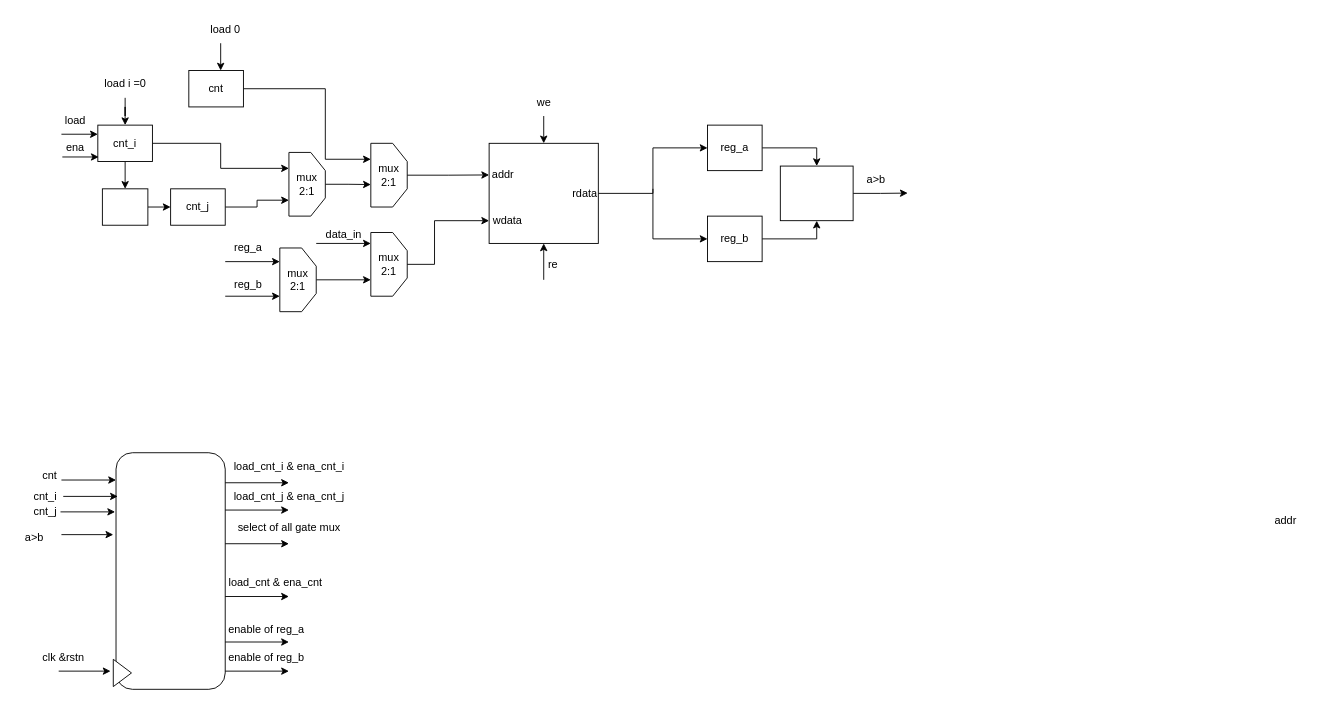
Some shapes in this 1323 by 705 pixel diagram are drawn without their labels. The shapes that lost their labels are listed below. From the top down, each one's box as (x1, y1, x2, y2) in pixels, then its label:
(101, 188, 148, 225): i+1
(488, 142, 598, 243): memory
(779, 165, 853, 221): a > b
(115, 452, 225, 689): Interface controller
